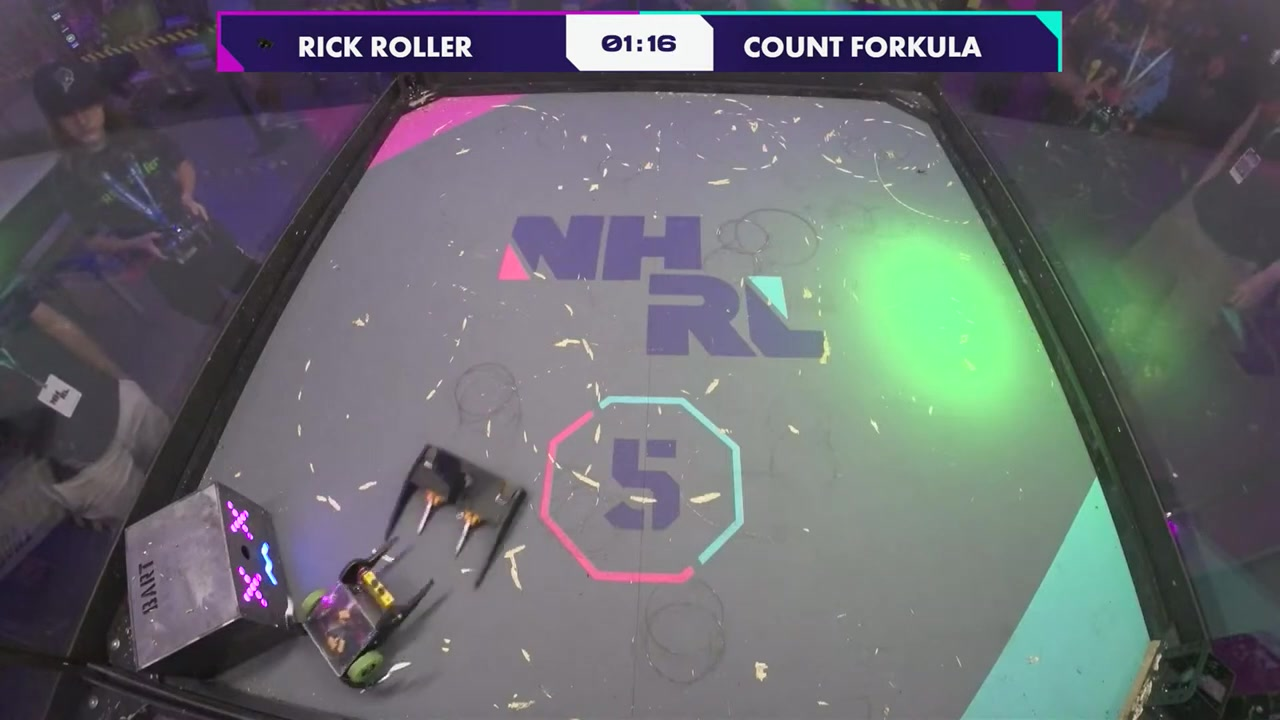combatbot: (296, 555, 405, 690), (403, 444, 530, 532)
housebot: (112, 482, 302, 675)
